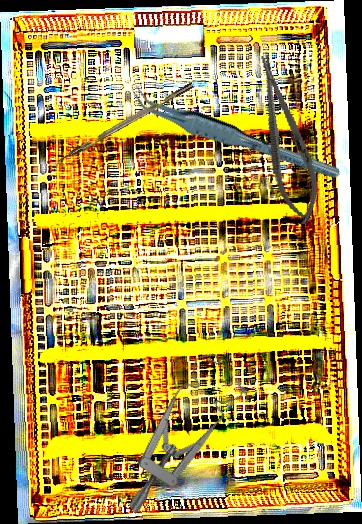Chopper: (50, 82, 198, 173)
Needle Holder: (245, 49, 328, 229)
Speculum: (82, 346, 269, 514)
Tissue Forceps: (125, 67, 343, 203)
